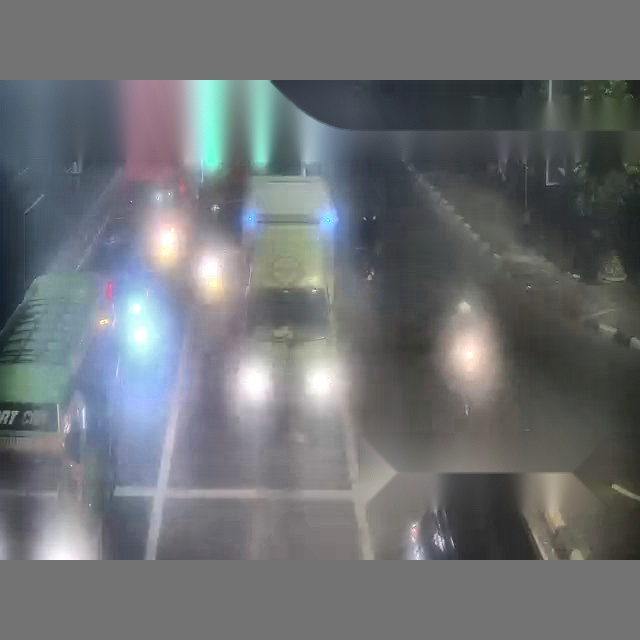Motor: (151, 190, 183, 271)
